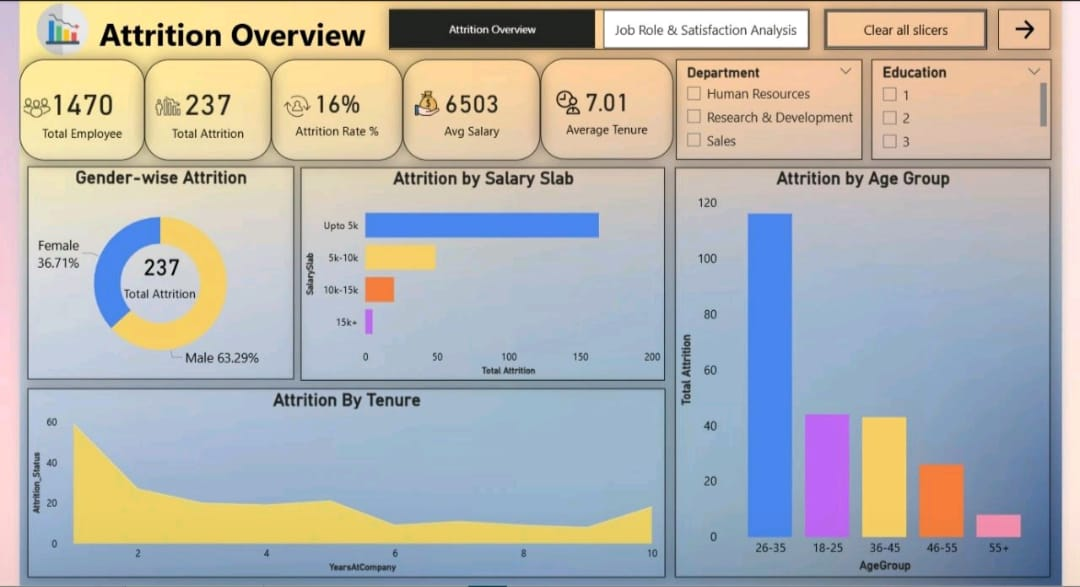

This screenshot's page, from the dashboard's own definition file:
{"tool":"powerbi","page":{"name":"Attrition Overview","canvas":[1280,720],"ordinal":0},"visuals":[{"type":"textbox","box":[92.9,12.1,341.4,61.5],"z":0},{"type":"image","box":[0,0,106.2,73.6],"z":1000},{"type":"card","fields":{"Values":["HR_Analytics.Total Employee Count"]},"box":[0,73.6,153.2,124.3],"z":2000},{"type":"card","fields":{"Values":["HR_Analytics.Total Attrition"]},"box":[153.2,73.6,155.6,124.3],"z":3000},{"type":"card","fields":{"Values":["HR_Analytics.Attrition Rate %"]},"box":[308.8,73.6,161.7,124.3],"z":4000},{"type":"card","fields":{"Values":["HR_Analytics.Avg Salary"]},"box":[470.5,73.6,168.9,124.3],"z":5000},{"type":"card","fields":{"Values":["Avg(HR_Analytics.YearsAtCompany)"]},"box":[639.4,72.4,162.9,124.3],"z":6000},{"type":"pageNavigator","box":[453.6,12.1,516.4,49.5],"z":7000},{"type":"actionButton","box":[988.1,12.1,200.3,49.5],"z":8000},{"type":"actionButton","box":[1201.6,12.1,63.9,49.5],"z":9000},{"type":"slicer","fields":{"Values":["HR_Analytics.Department"]},"box":[805.5,74.1,229.2,123.5],"z":10000},{"type":"slicer","fields":{"Values":["HR_Analytics.Education"]},"box":[1045.6,74.1,220.9,123.5],"z":11000},{"type":"donutChart","title":" Gender-wise Attrition","fields":{"Category":["HR_Analytics.Gender"],"Y":["HR_Analytics.Total Attrition Status_Count"]},"box":[9.7,205.1,326.9,261.8],"z":12000},{"type":"card","fields":{"Values":["HR_Analytics.Total Attrition Status_Count"]},"box":[114.6,288.3,119.4,97.7],"z":13000},{"type":"barChart","title":" Attrition by Salary Slab","fields":{"Y":["HR_Analytics.Total Attrition Status_Count"],"Category":["HR_Analytics.SalarySlab"],"Series":["HR_Analytics.SalarySlab"]},"box":[345,206.3,447.6,261.8],"z":14000},{"type":"columnChart","title":" Attrition by Age Group","fields":{"Category":["HR_Analytics.AgeGroup"],"Series":["HR_Analytics.AgeGroup"],"Y":["HR_Analytics.Total Attrition"]},"box":[804.7,206.3,460.9,503.1],"z":15000},{"type":"lineChart","title":"Attrition By Tenure","fields":{"Category":["HR_Analytics.YearsAtCompany"],"Y":["Sum(HR_Analytics.Attrition_Status)"]},"box":[9.7,477.8,783,231.6],"z":16000},{"type":"image","box":[0,98.9,43.4,68.8],"z":17000},{"type":"image","box":[143.6,98.9,79.6,68.8],"z":18000},{"type":"image","box":[317.3,107.4,47.1,49.5],"z":19000},{"type":"image","box":[480.2,98.9,39.8,57.9],"z":20000},{"type":"image","box":[650.3,107.4,45.8,38.6],"z":21000}]}

Visuals, with their boxes in screenshot pixels (x1, y1, x2, y2):
textbox: (100, 10, 375, 59)
image: (25, 0, 111, 59)
card - HR_Analytics.Total Employee Count: (25, 59, 149, 159)
card - HR_Analytics.Total Attrition: (149, 59, 274, 159)
card - HR_Analytics.Attrition Rate %: (274, 59, 404, 159)
card - HR_Analytics.Avg Salary: (404, 59, 540, 159)
card - Avg(HR_Analytics.YearsAtCompany): (540, 58, 671, 158)
pageNavigator: (391, 10, 806, 50)
actionButton: (821, 10, 982, 50)
actionButton: (993, 10, 1044, 50)
slicer - HR_Analytics.Department: (674, 60, 858, 159)
slicer - HR_Analytics.Education: (867, 60, 1045, 159)
" Gender-wise Attrition" donutChart: (33, 165, 296, 376)
card - HR_Analytics.Total Attrition Status_Count: (118, 232, 214, 311)
" Attrition by Salary Slab" barChart: (303, 166, 663, 377)
" Attrition by Age Group" columnChart: (673, 166, 1044, 571)
"Attrition By Tenure" lineChart: (33, 385, 664, 571)
image: (25, 80, 60, 135)
image: (141, 80, 205, 135)
image: (281, 86, 319, 126)
image: (412, 80, 444, 126)
image: (549, 86, 586, 118)
